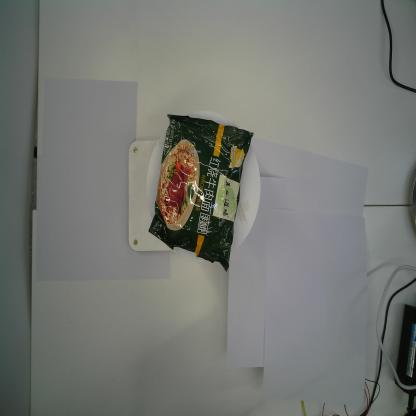Instant Noodles: (147, 112, 256, 276)
